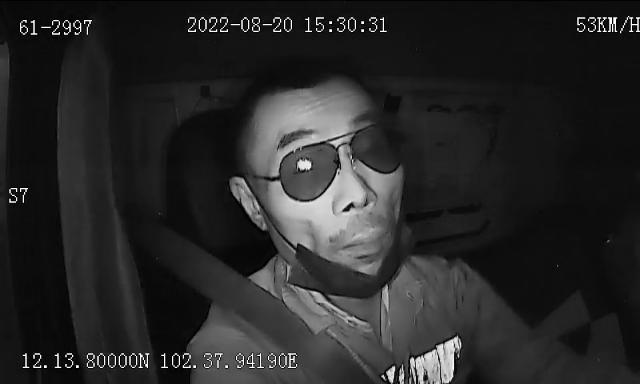SafeDriving: (288, 151, 328, 182)
Seatbelt: (178, 238, 396, 384)
